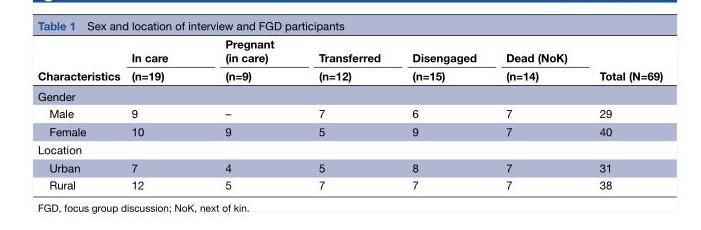table: (37, 36, 662, 190)
table column: (195, 36, 295, 190), (295, 36, 395, 190), (395, 36, 490, 190), (490, 36, 582, 190), (37, 36, 125, 190), (582, 36, 662, 190), (125, 36, 195, 190)
table column header: (37, 36, 662, 85)
table projected row header: (37, 85, 662, 104), (37, 140, 662, 158)
table row: (37, 36, 662, 66), (37, 66, 662, 85), (37, 85, 662, 104), (37, 121, 662, 140), (37, 140, 662, 158), (37, 104, 662, 121), (37, 158, 662, 175), (37, 175, 662, 190)
table spanning cell: (195, 36, 295, 85), (295, 36, 395, 85), (395, 36, 490, 85), (490, 36, 582, 85), (37, 36, 125, 85), (582, 36, 662, 85), (125, 36, 195, 85)
